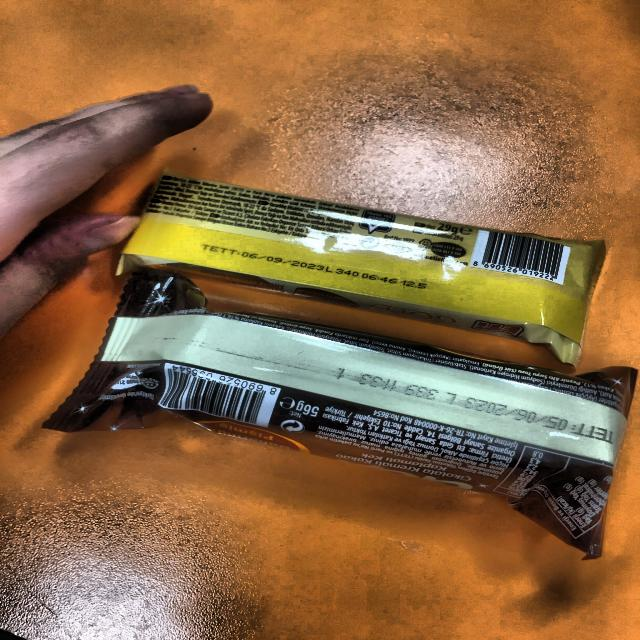Plastic: (43, 272, 640, 576), (116, 166, 607, 367)
